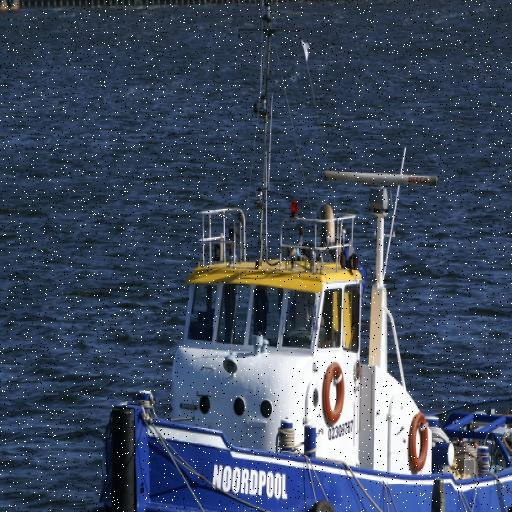tugboat: (89, 164, 512, 512)
